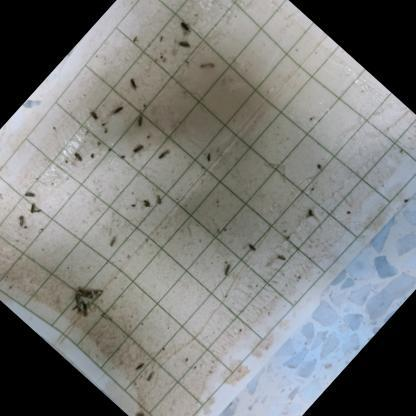prays_oleae: (126, 108, 152, 135), (171, 32, 197, 58), (100, 228, 124, 254), (122, 73, 146, 97), (133, 193, 155, 216), (66, 144, 88, 166), (22, 198, 44, 220), (8, 208, 30, 230), (152, 144, 172, 166), (129, 136, 149, 158), (107, 102, 128, 122), (84, 104, 104, 124), (175, 17, 194, 36), (218, 259, 236, 278), (20, 186, 38, 204), (242, 239, 260, 257), (270, 251, 287, 268), (201, 150, 217, 166)
